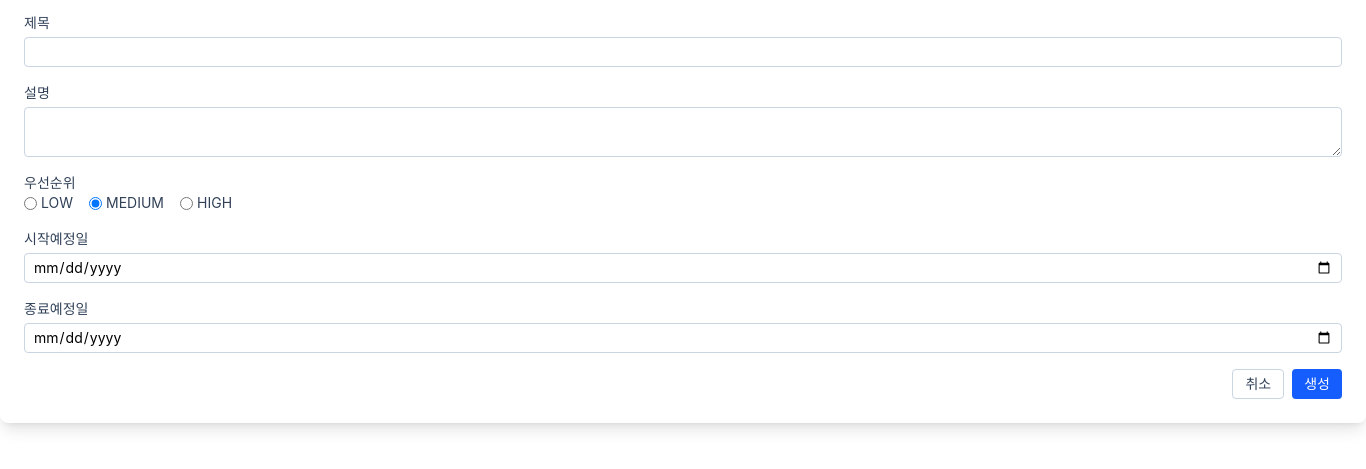
Test case: TC-COMP-004: TicketForm — 티켓 생성 › 004-E3 · 과거 날짜를 종료예정일로 선택 › 안내가 보이고 전송되지 않는다
The image size is (1366, 469).
In the field labelled "제목": (683,52) [24,37,1342,67], type "지난 마감"
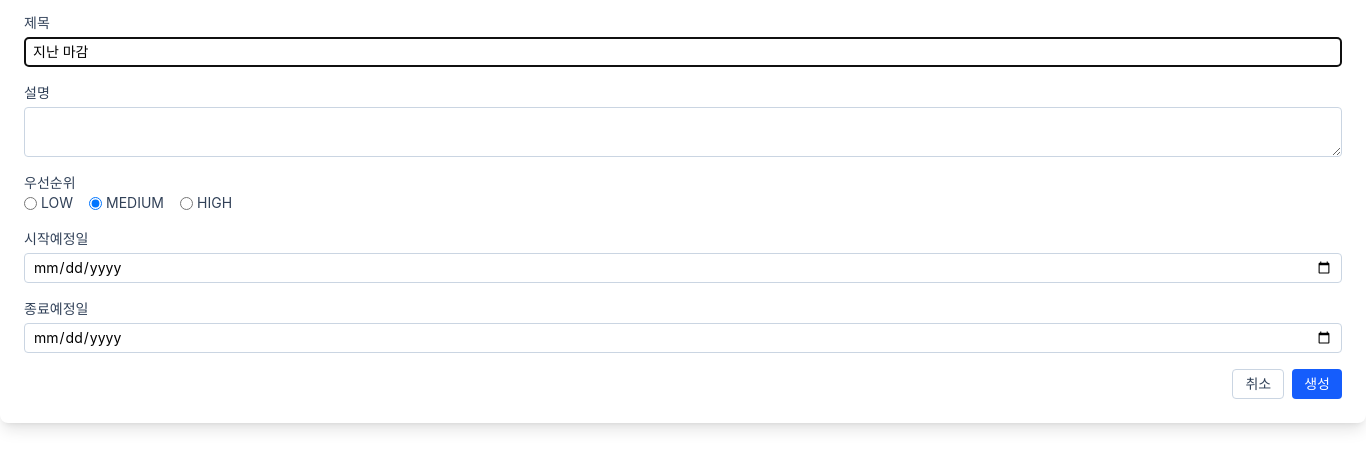
In the date field labelled "종료예정일": (683,338) [24,323,1342,353], type "2020-01-01"
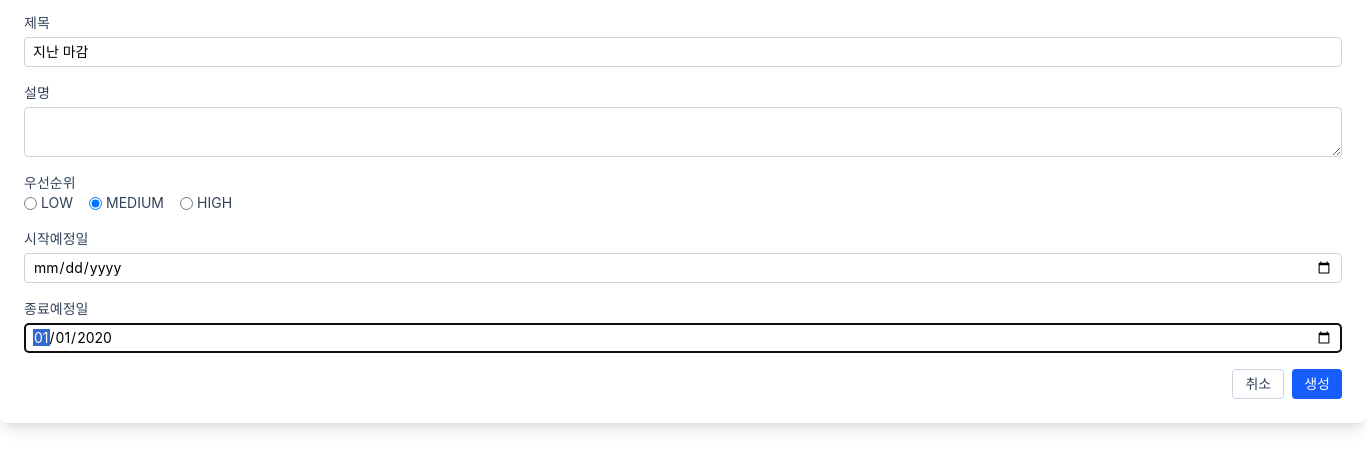
Click the button "생성": (1317,384) [1292,369,1342,399]
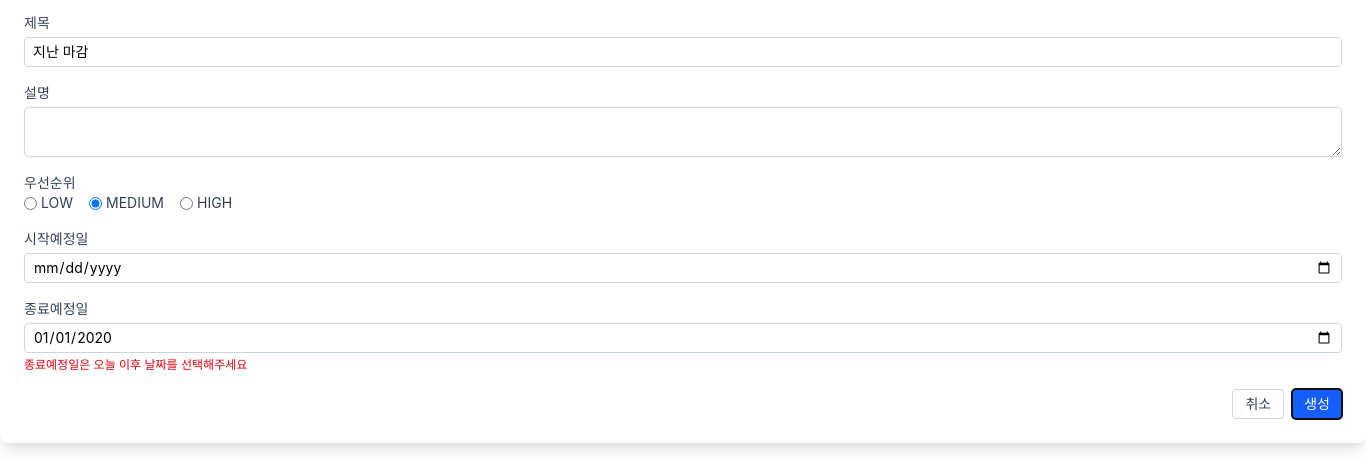
Now the text "종료예정일은 오늘 이후 날짜를 선택해주세요" is shown, box [24,357,247,372]
